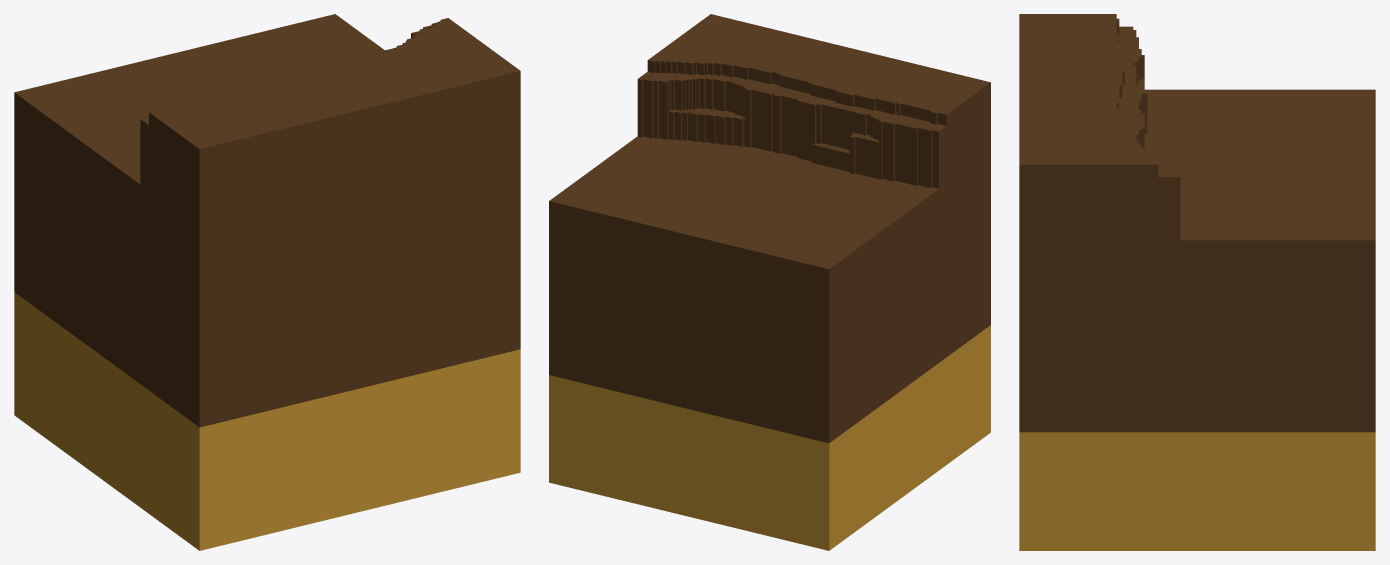
3 renders of one model, left to right at view 1: azimuth 30°, elevation 25°; view 2: azimuth 150°, elevation 25°; view 3: azimuth 270°, elevation 25°, orthographic. The views are drawn at different scales.
Visible parts, largest first — view 1: 4P; view 2: 4P; view 3: 4P.
Boxes of the visible parts, box(x1,y1,x2,y2) form: 4P: box(14, 14, 520, 550); 4P: box(549, 14, 990, 550); 4P: box(1019, 14, 1375, 550).
Size of the model in its own units: 12.8 by 15.3 by 12.8.
Materials: 1 (1 with a texture image).
